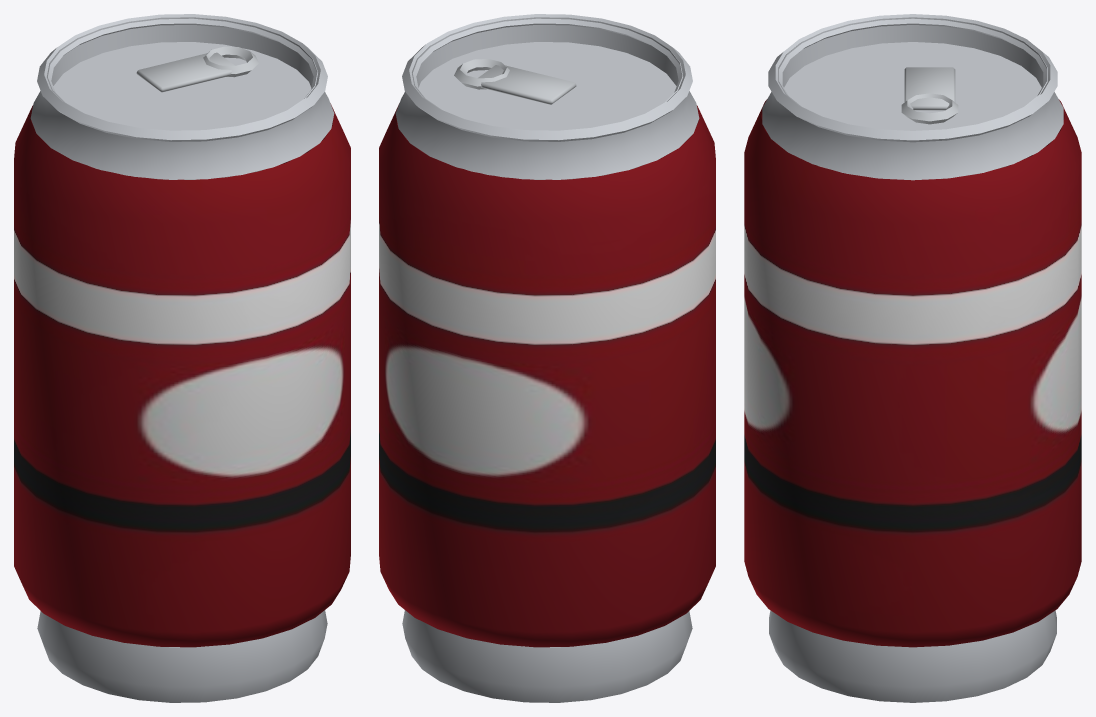
File: can_cola.glb
3 views of the same model, side by side, from view 1: azimuth 30°, elevation 25°; view 2: azimuth 150°, elevation 25°; view 3: azimuth 270°, elevation 25° (orthographic).
Parts seen in each view (by area): view 1: can_cola; view 2: can_cola; view 3: can_cola.
Boxes of the visible parts, x1,y1,x2,y2 form: can_cola: (14, 14, 350, 702); can_cola: (379, 14, 715, 702); can_cola: (744, 14, 1081, 702).
Bounding box in the file's own units: 0.066 × 0.1234 × 0.066.
4 materials, 1 textured.
